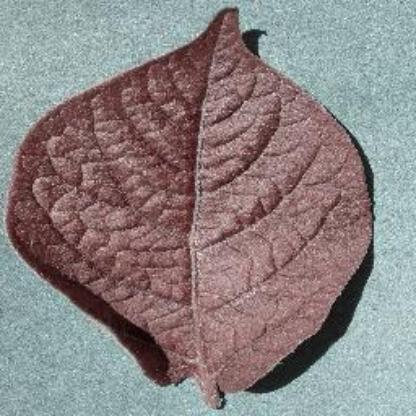Healthy-plant: (10, 10, 384, 412)
